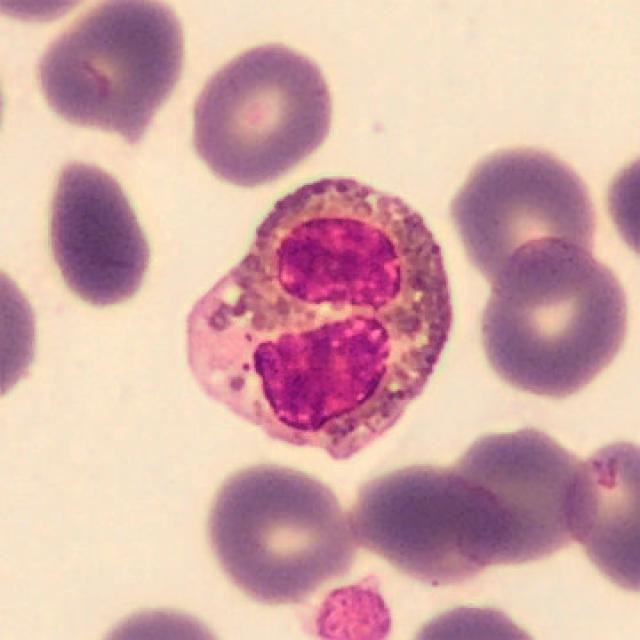Eosinofilo: (187, 178, 453, 460)
